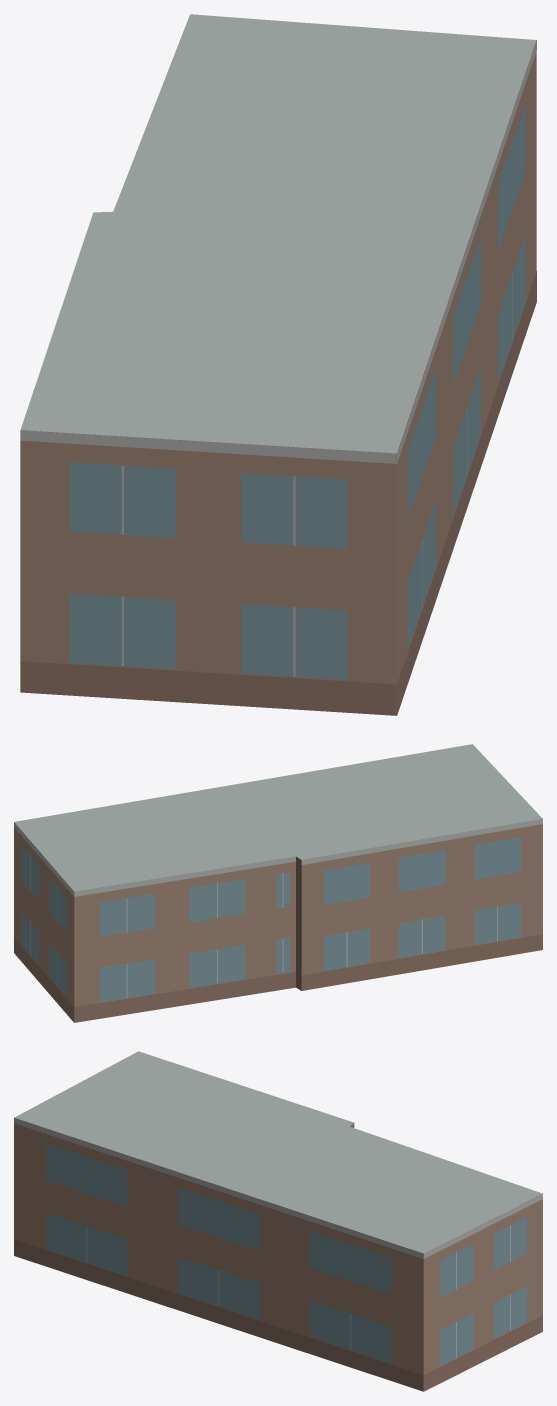
File: survey-upis-32700857.glb
3 renders of one model, top to bottom at view 1: azimuth 30°, elevation 25°; view 2: azimuth 150°, elevation 25°; view 3: azimuth 270°, elevation 25°, orthographic. The views are drawn at different scales.
Visible parts, largest first — view 1: survey-upis-32700857.tmp; view 2: survey-upis-32700857.tmp; view 3: survey-upis-32700857.tmp.
Boxes of the visible parts, x1,y1,x2,y2 form: survey-upis-32700857.tmp: (20, 14, 536, 715); survey-upis-32700857.tmp: (14, 744, 542, 1022); survey-upis-32700857.tmp: (14, 1051, 542, 1391).
Size of the model in its own units: 19.16 by 6.1 by 21.16.
